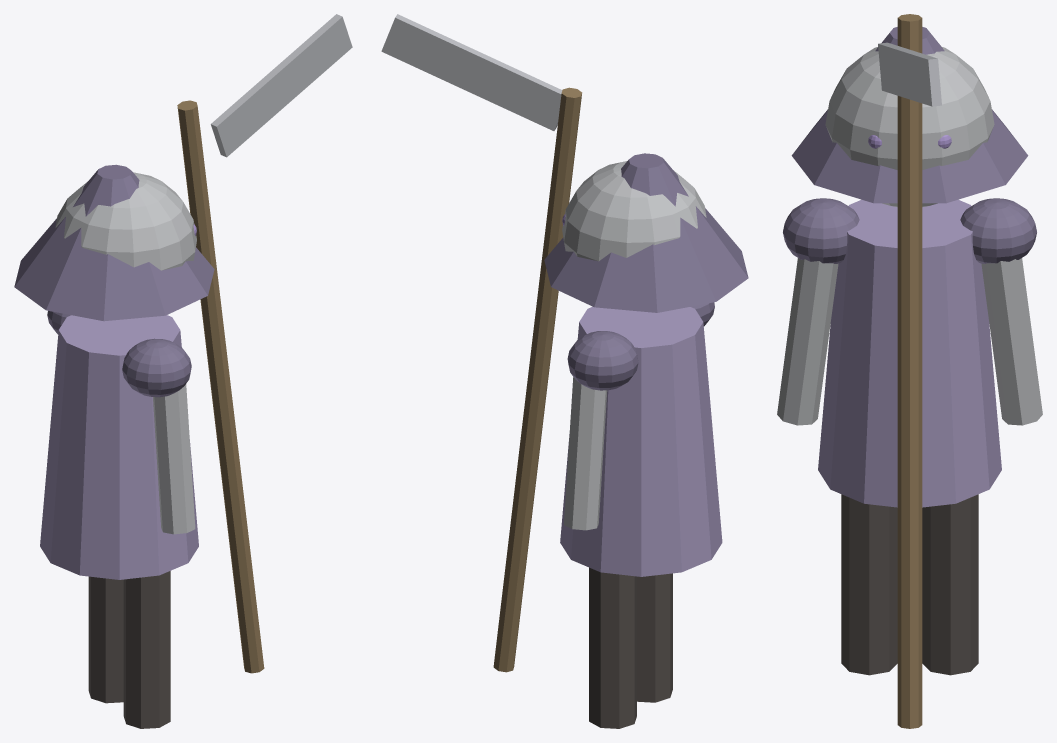
File: hero_vhorren_1.glb
3 views of the same model, side by side, from view 1: azimuth 30°, elevation 25°; view 2: azimuth 150°, elevation 25°; view 3: azimuth 270°, elevation 25° (orthographic). The views are drawn at different scales.
Visible parts, largest first — view 1: figurka; view 2: figurka; view 3: figurka.
Boxes of the visible parts, x1,y1,x2,y2 form: figurka: (14,14,352,728); figurka: (381,14,748,728); figurka: (777,14,1042,728).
Size of the model in its own units: 0.6555 by 1.19 by 0.393.
